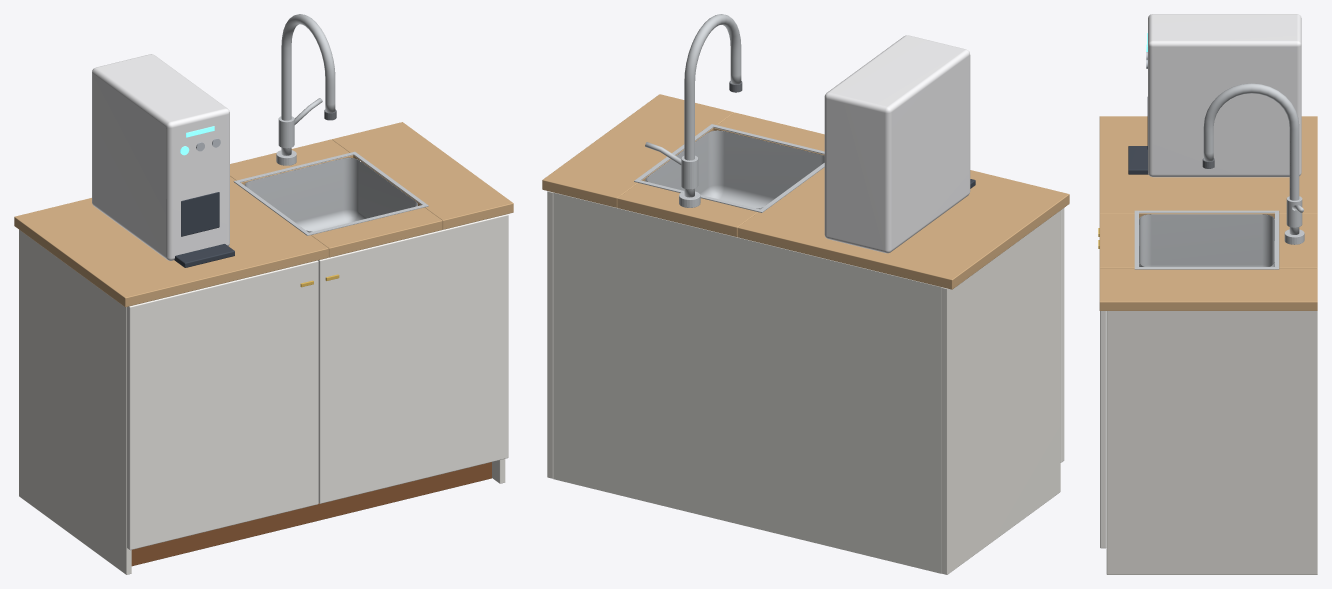
The model's file is sink_cabinet.glb.
The picture shows the model from 3 angles, left to right: view 1: azimuth 30°, elevation 25°; view 2: azimuth 150°, elevation 25°; view 3: azimuth 270°, elevation 25°; orthographic projection. The views are drawn at different scales.
Visible parts, largest first — view 1: SinkCab_Door0, SinkCab_Door1, SinkCab_Side0, Purifier, SinkCab_Top0, SinkCab_Top1, SinkBowl, SinkCab_Plinth, SinkCab_Top2, FaucetNeck, SinkCab_Top3, PurifierNook (+1 smaller); view 2: SinkCab_Back, SinkCab_Side0, Purifier, SinkCab_Top0, SinkCab_Top1, SinkBowl, SinkCab_Top3, FaucetNeck, SinkCab_Side1, SinkCab_Top2, SinkCab_Door0; view 3: SinkCab_Side1, Purifier, SinkCab_Top0, SinkCab_Top1, SinkBowl, FaucetNeck, SinkCab_Top2, SinkCab_Door1, SinkCab_Top3, PurifierTray, SinkRim2, FaucetBody (+3 smaller).
Part boxes in pixels (bbox=[...]): SinkCab_Door0: bbox=[127, 260, 318, 550]; SinkCab_Door1: bbox=[318, 214, 508, 503]; SinkCab_Side0: bbox=[19, 230, 131, 574]; Purifier: bbox=[92, 54, 229, 260]; SinkCab_Top0: bbox=[14, 176, 328, 307]; SinkCab_Top1: bbox=[332, 122, 513, 229]; SinkBowl: bbox=[244, 157, 417, 232]; SinkCab_Plinth: bbox=[131, 462, 491, 566]; SinkCab_Top2: bbox=[311, 207, 442, 257]; FaucetNeck: bbox=[281, 14, 335, 155]; SinkCab_Top3: bbox=[230, 139, 353, 184]; PurifierNook: bbox=[181, 192, 219, 236]; SinkCab_Back: bbox=[553, 192, 941, 573]; SinkCab_Side0: bbox=[941, 210, 1060, 574]; Purifier: bbox=[824, 35, 970, 253]; SinkCab_Top0: bbox=[737, 167, 1069, 289]; SinkCab_Top1: bbox=[542, 94, 734, 207]; SinkBowl: bbox=[645, 130, 824, 209]; SinkCab_Top3: bbox=[617, 183, 757, 236]; FaucetNeck: bbox=[684, 14, 741, 197]; SinkCab_Side1: bbox=[547, 191, 553, 478]; SinkCab_Top2: bbox=[713, 112, 824, 155]; SinkCab_Door0: bbox=[1060, 208, 1064, 462]; SinkCab_Side1: bbox=[1106, 311, 1317, 574]; Purifier: bbox=[1148, 14, 1301, 177]; SinkCab_Top0: bbox=[1099, 116, 1317, 218]; SinkCab_Top1: bbox=[1099, 268, 1317, 310]; SinkBowl: bbox=[1139, 214, 1274, 266]; FaucetNeck: bbox=[1203, 83, 1299, 234]; SinkCab_Top2: bbox=[1099, 213, 1134, 267]; SinkCab_Door1: bbox=[1100, 311, 1106, 548]; SinkCab_Top3: bbox=[1279, 213, 1317, 268]; PurifierTray: bbox=[1128, 146, 1148, 174]; SinkRim2: bbox=[1139, 210, 1274, 213]; FaucetBody: bbox=[1286, 196, 1302, 227].
Size of the model in its own units: 2.73 by 2.96 by 1.36.
